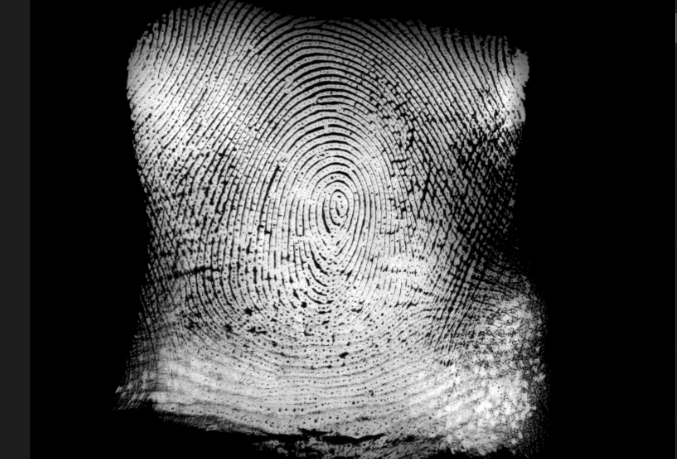nucelo: (317, 180, 353, 227)
verticilo: (405, 274, 441, 308), (168, 292, 197, 317)
